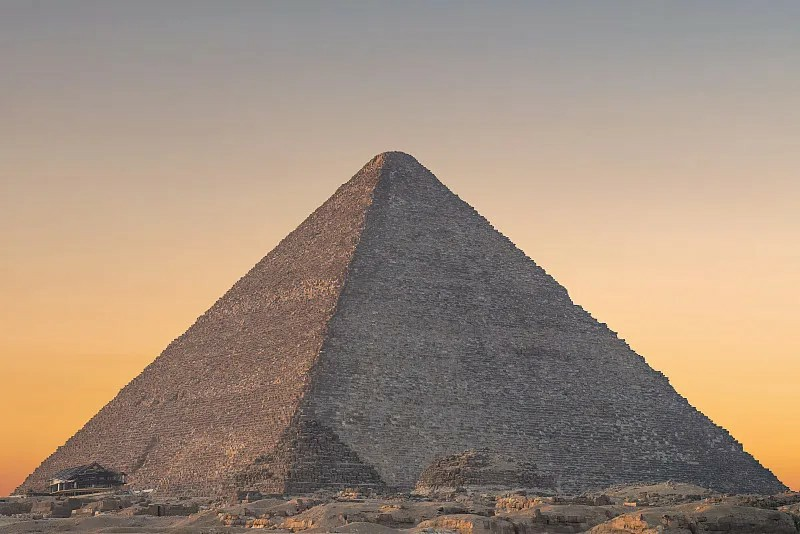Pyramid: (16, 152, 795, 503)
